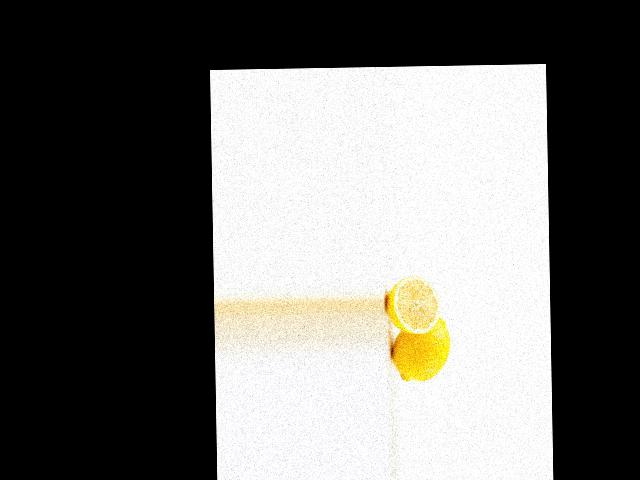lemon: (389, 309, 453, 384)
